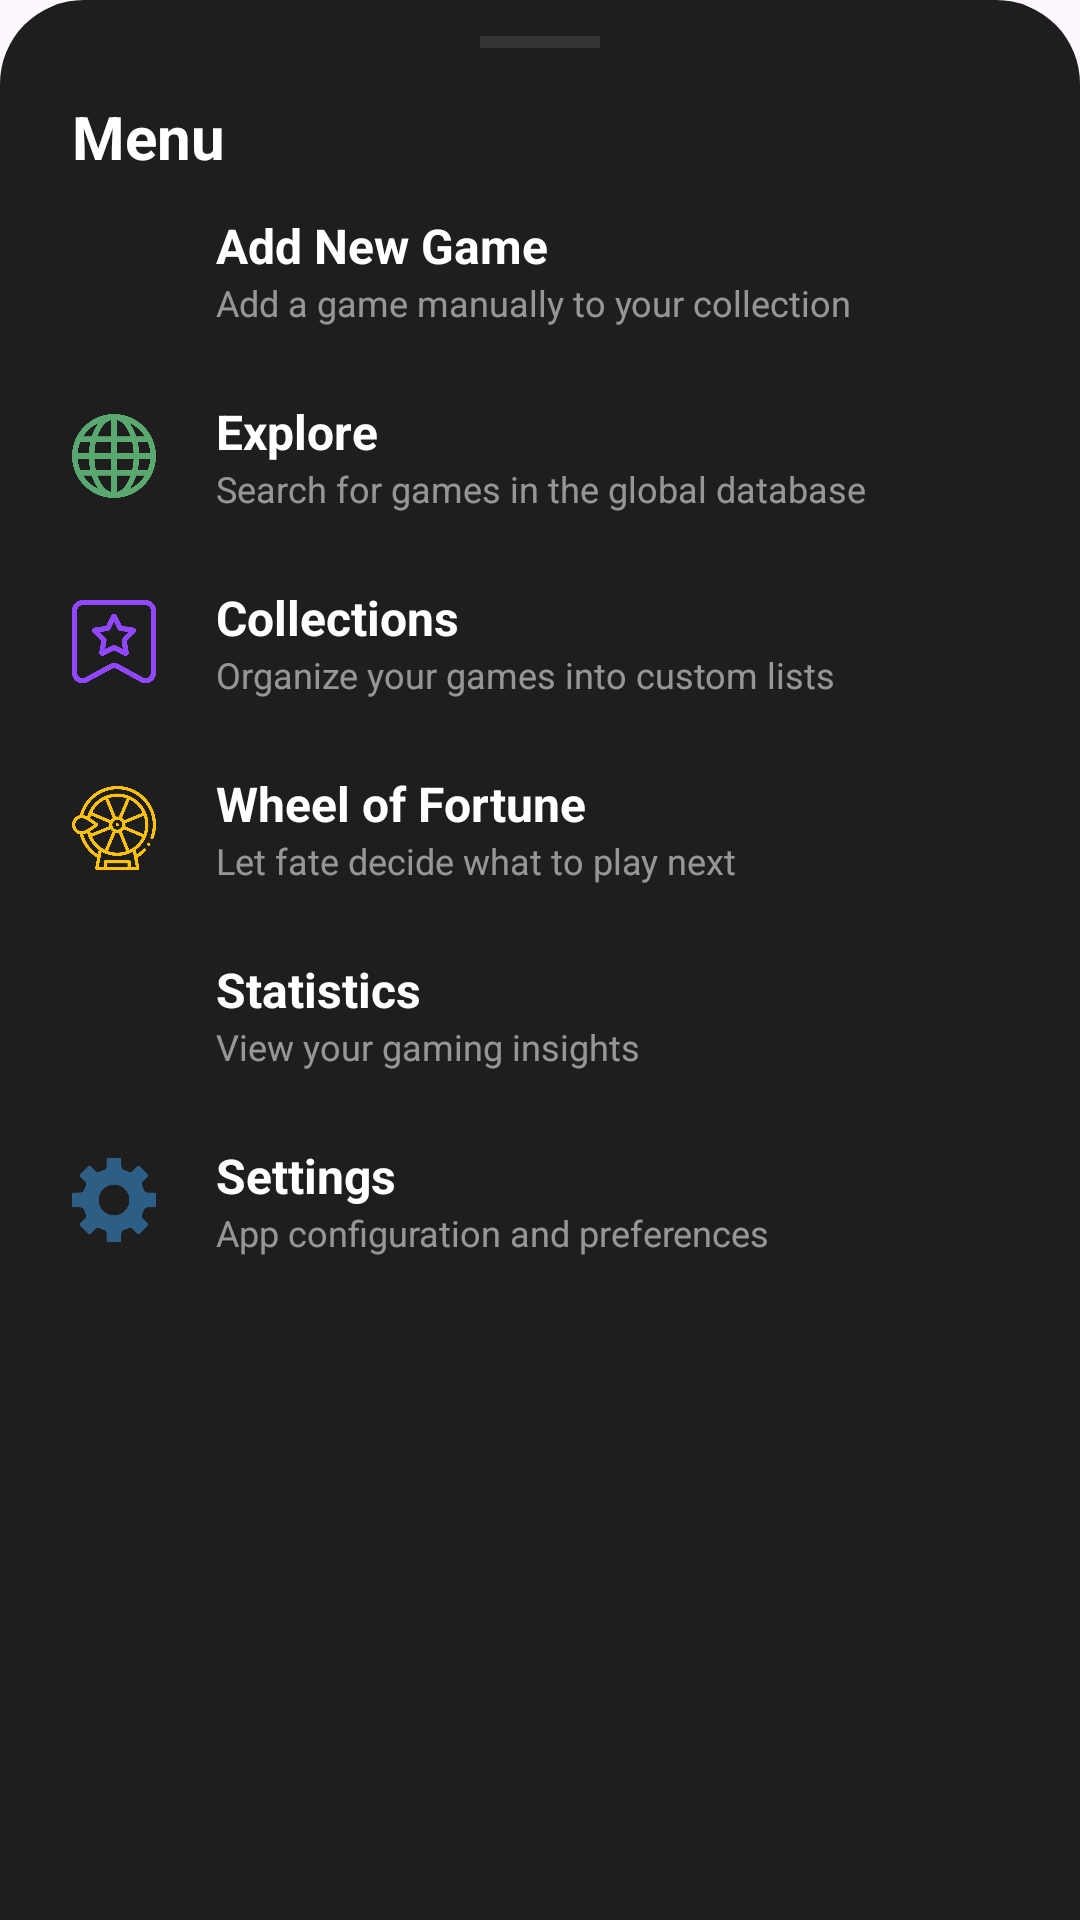

Where to tap for icons on this 1080x1920 app screen, as [x,y]:
browser: [114,456]
